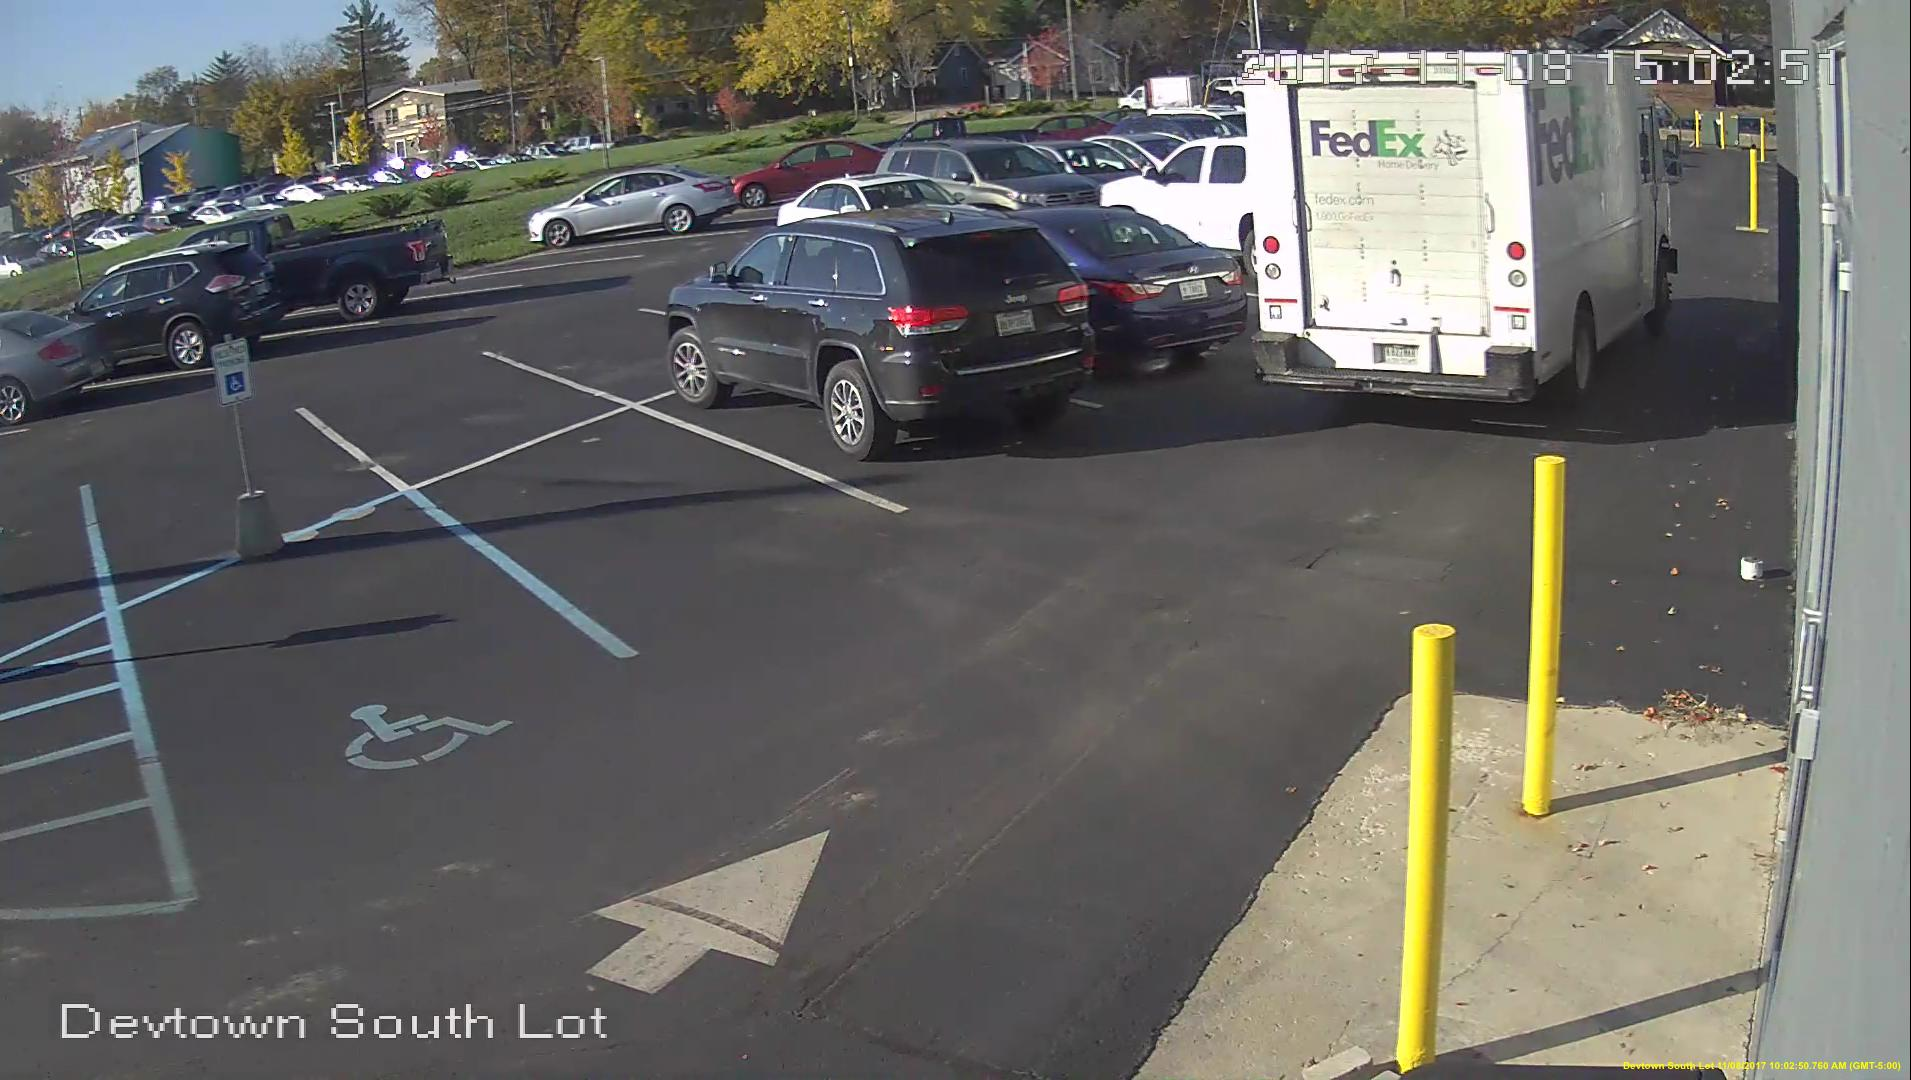fedex_truck: (1240, 42, 1687, 408)
